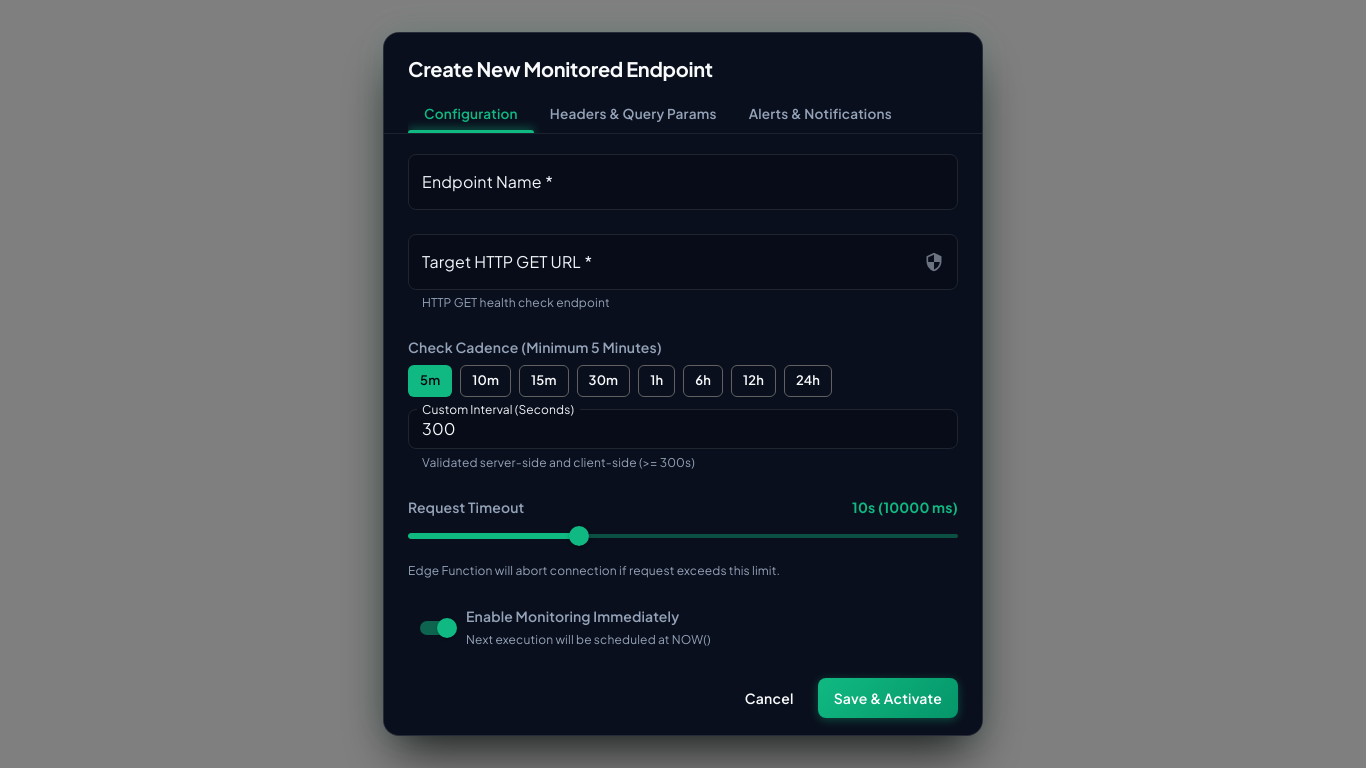
Scenario: EndpointFormModal Component › rejects submission when URL is invalid or attempts SSRF
// Enter name
Type "Metadata Exploit Test" into the field labelled "Endpoint Name *". click: (683, 182)
box: [408,154,958,210]
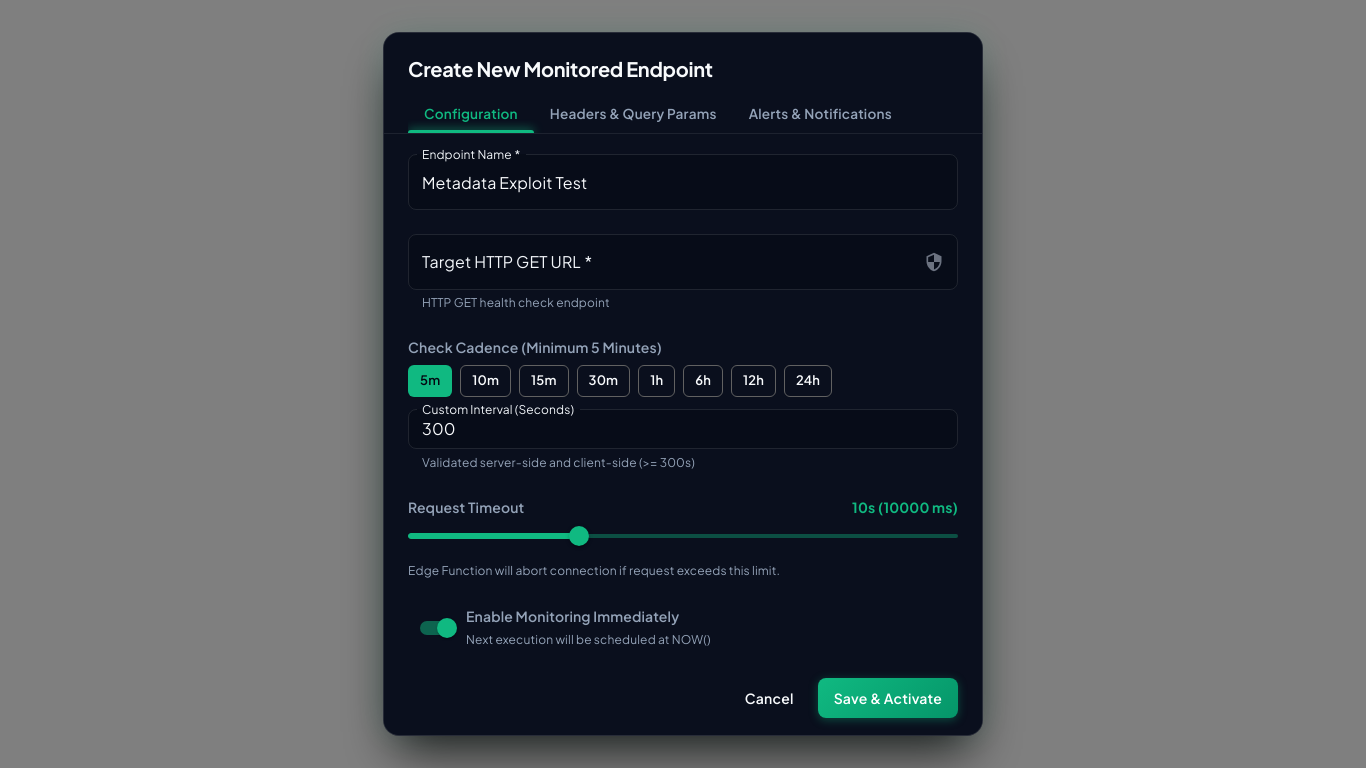
// Enter SSRF restricted URL
Type "http://169.254.169.254/latest/meta-data/" into the field labelled "Target HTTP GET URL *". click: (666, 262)
box: [408,234,924,290]
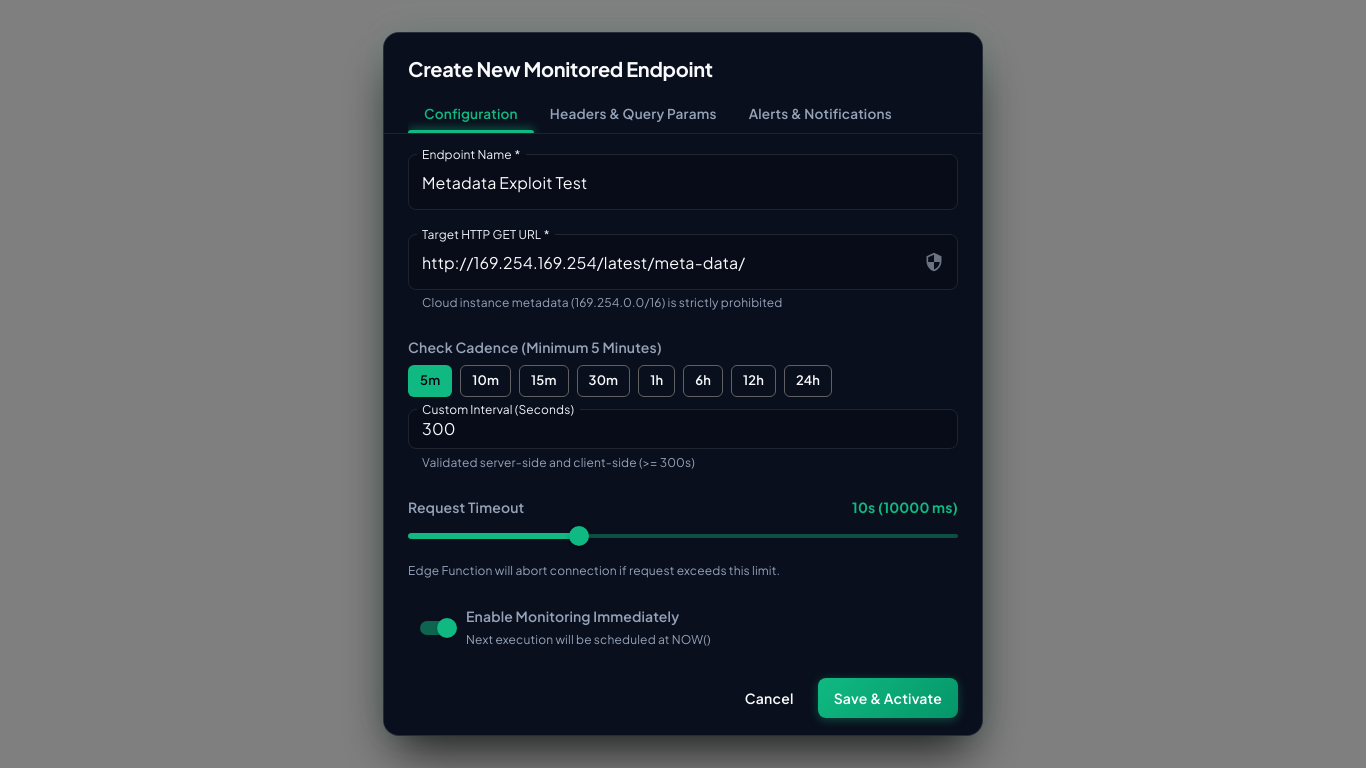
// Click submit
Click the button "Save & Activate". click: (888, 698)
box: [818,678,958,718]
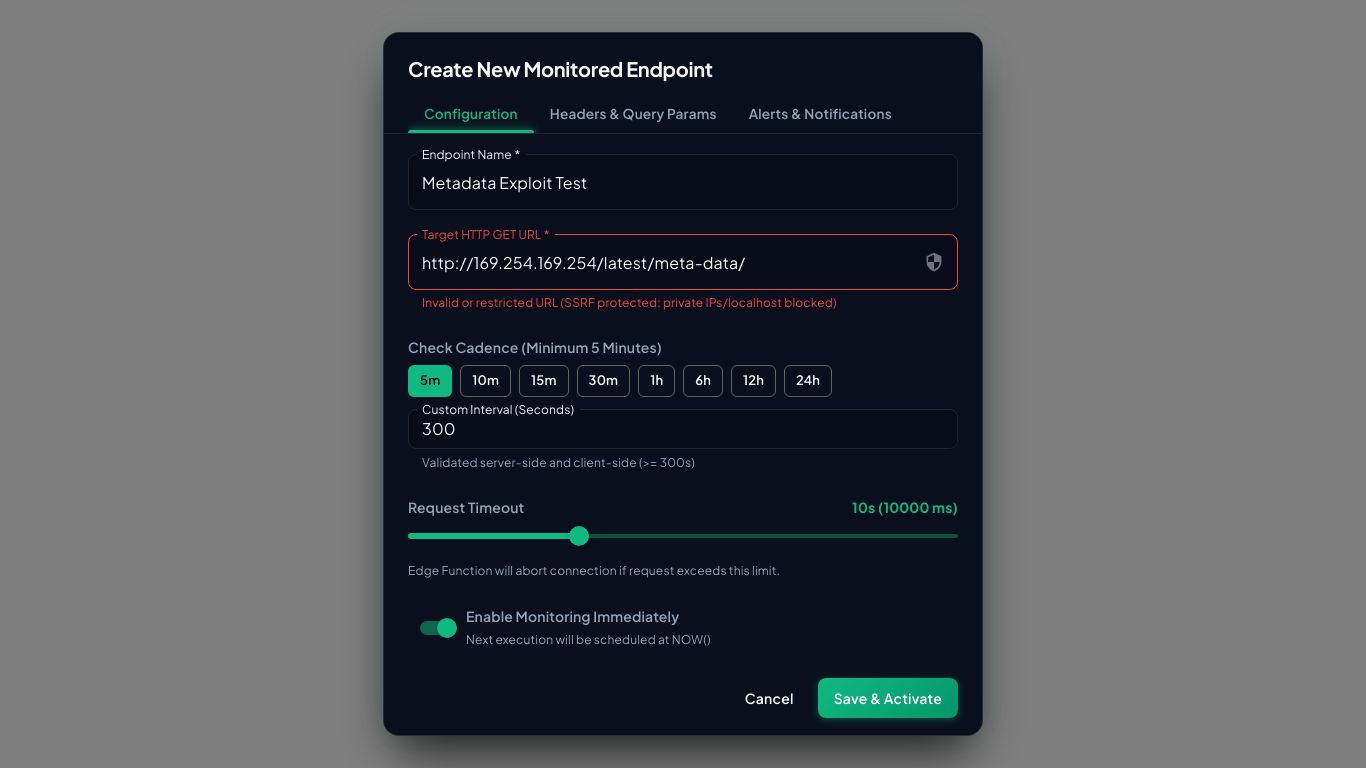
Expected: the text "Invalid or restricted URL" is shown, [422,295,837,310]
